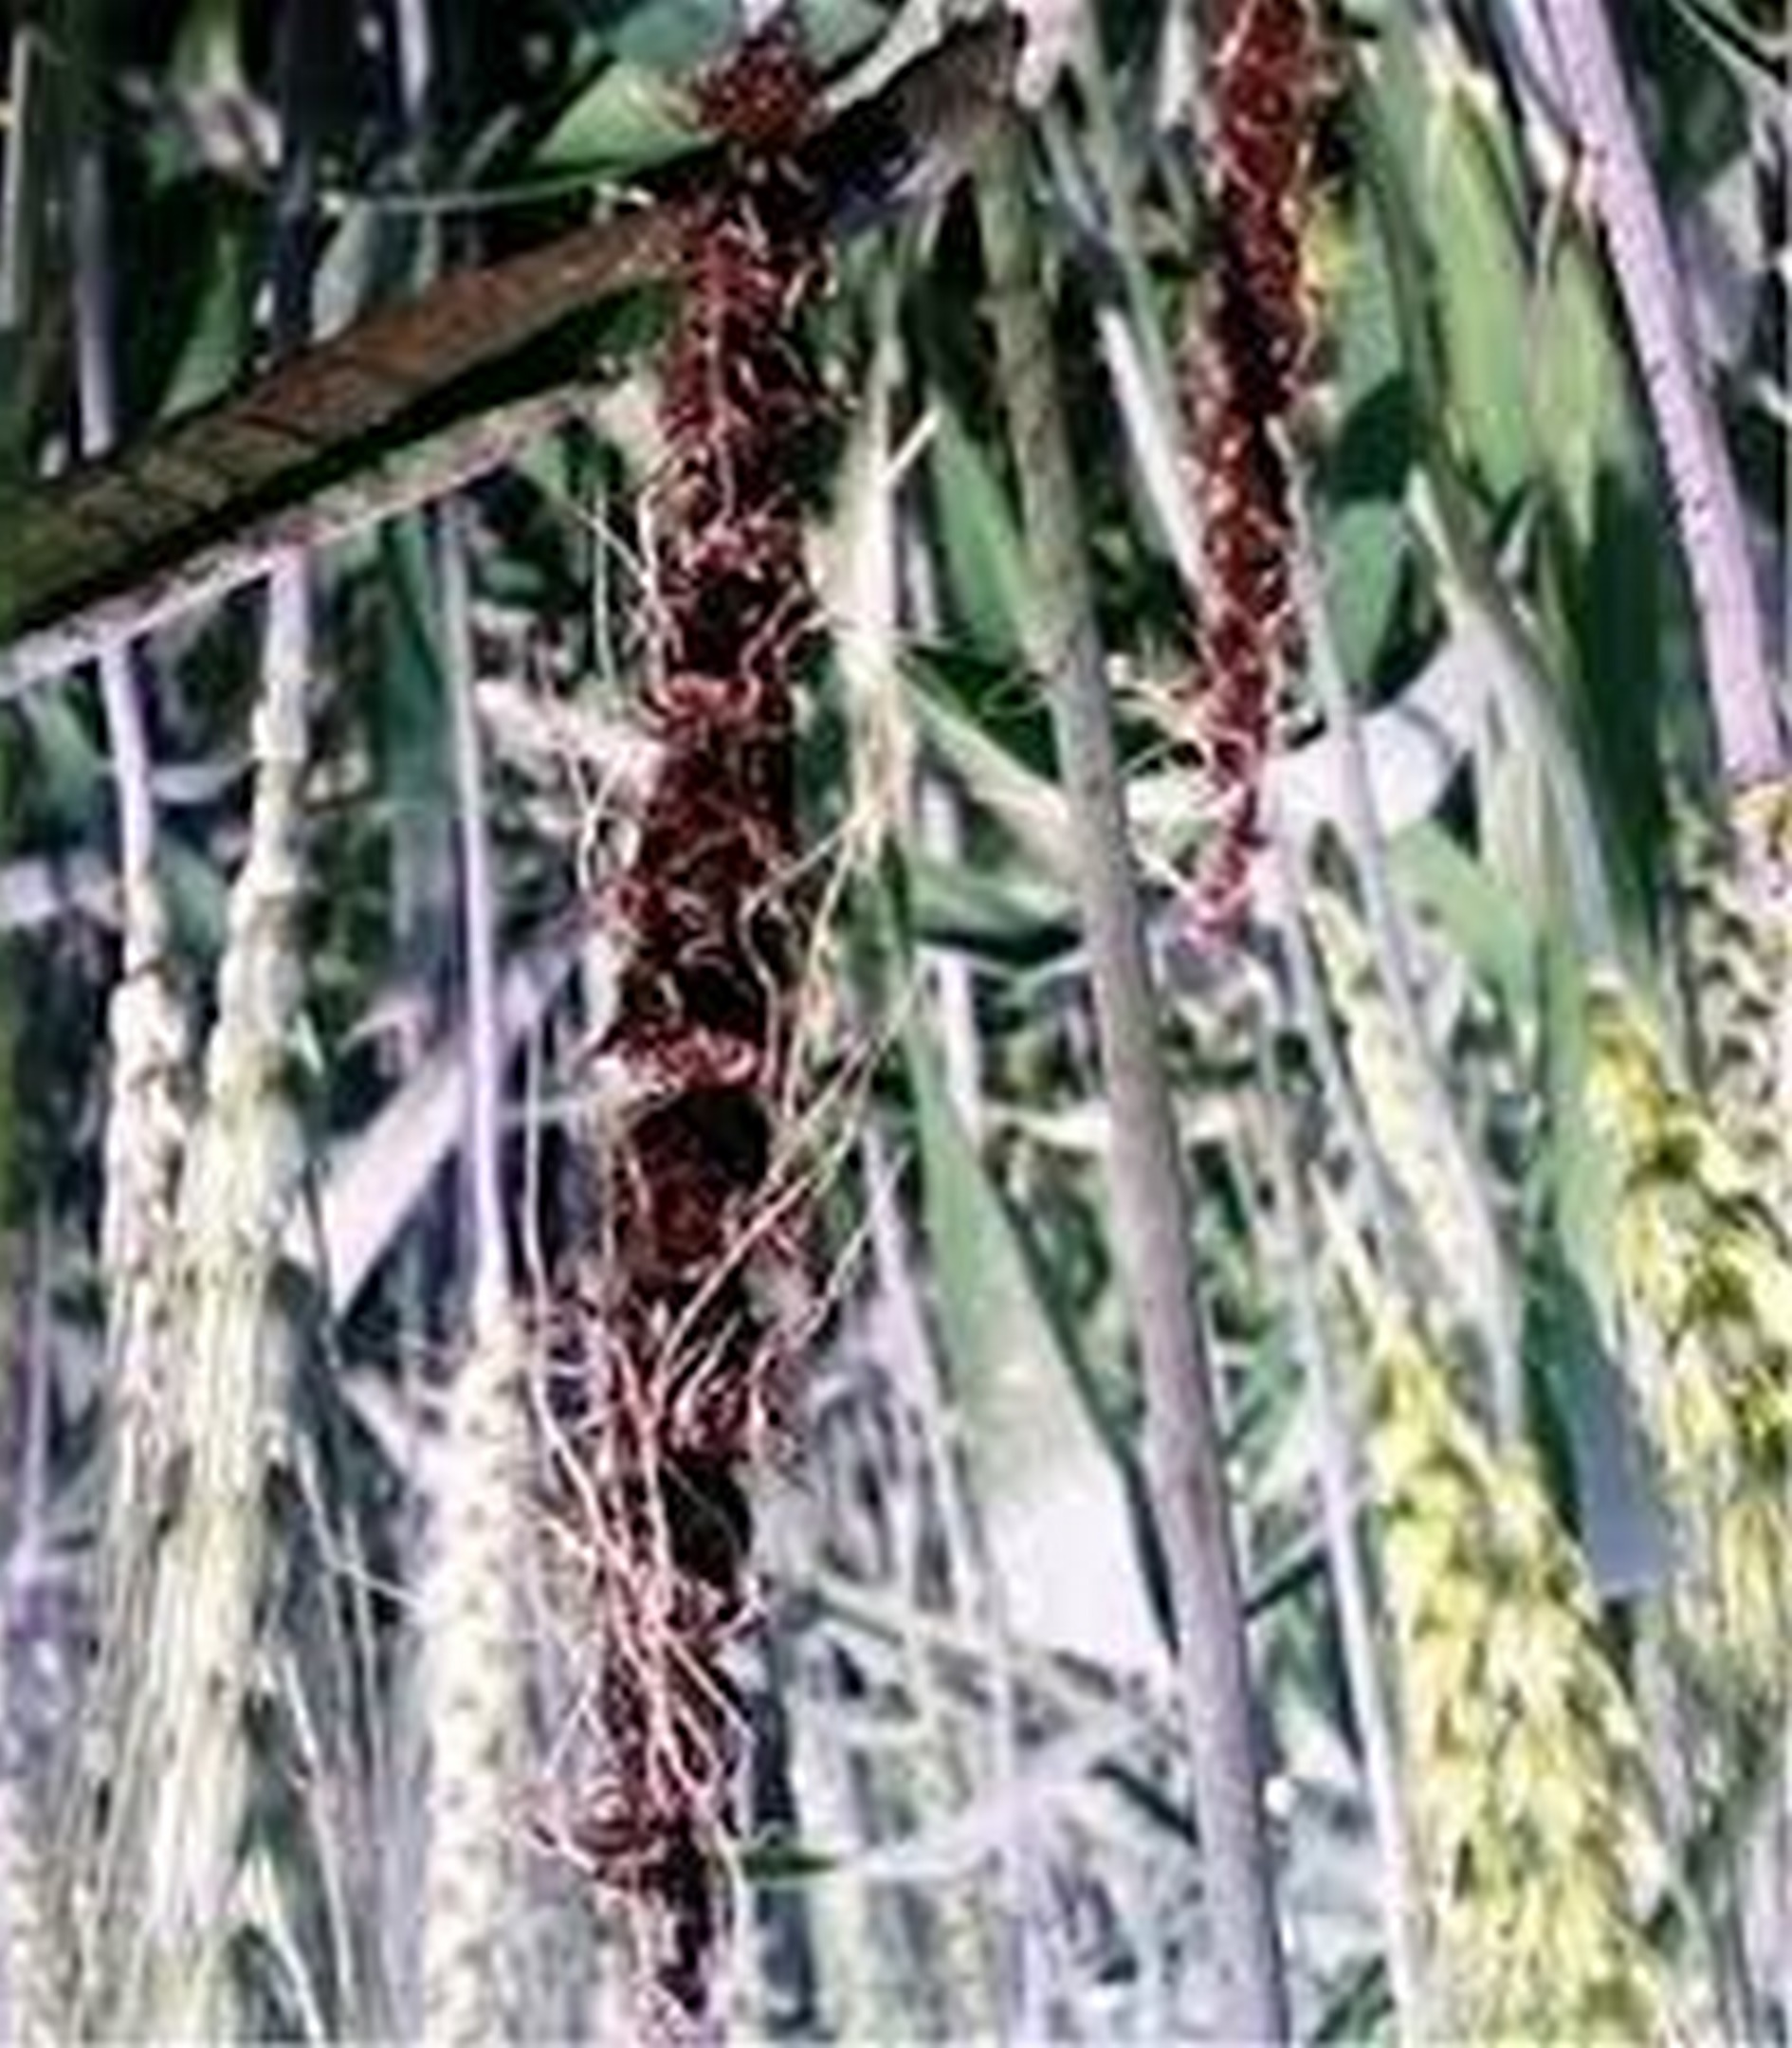Wheat Loose Smut: (578, 92, 892, 1273), (1156, 2, 1367, 963)
